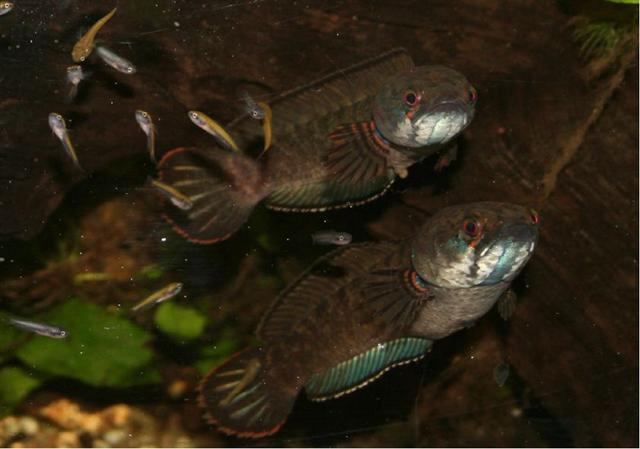Mulut: (464, 214, 550, 268), (401, 94, 484, 130)
Sirip Anal: (278, 333, 480, 404), (267, 180, 405, 218)
Sirip Dada: (352, 253, 436, 346), (315, 119, 409, 187), (488, 286, 530, 330)
Sirip Ekor: (182, 352, 306, 448), (145, 142, 259, 246)
Sirip Punggung: (198, 35, 420, 139), (251, 242, 383, 340)
